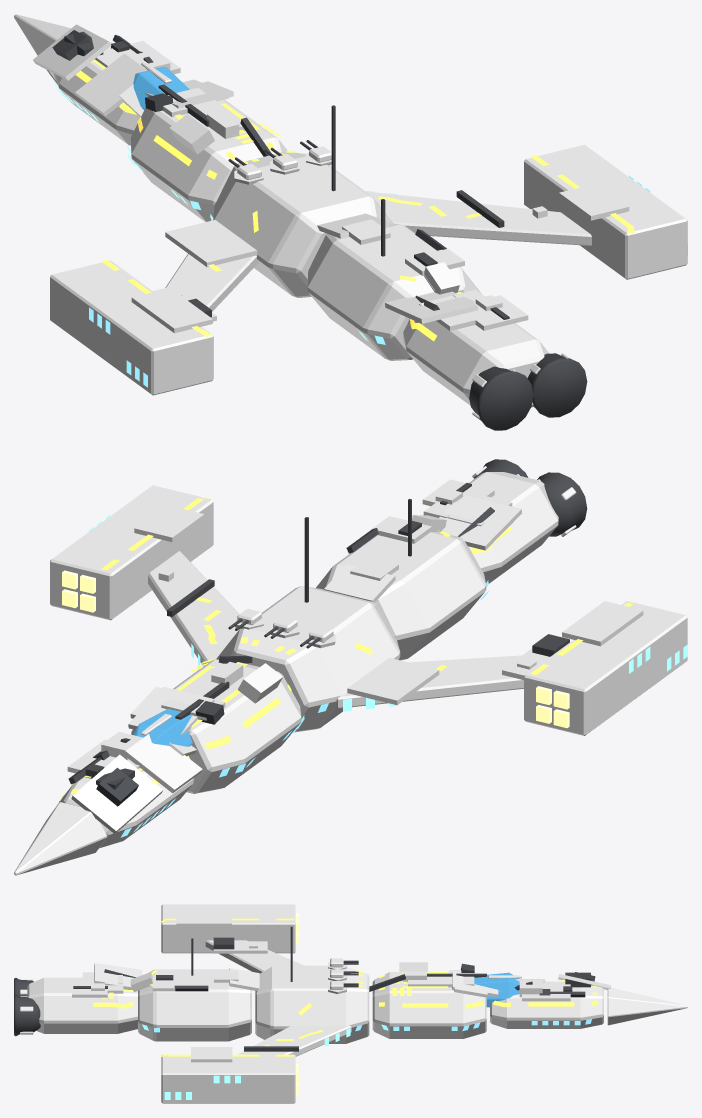
File: gadyuka.glb
The picture shows the model from 3 angles, top to bottom: view 1: azimuth 30°, elevation 25°; view 2: azimuth 150°, elevation 25°; view 3: azimuth 270°, elevation 25°; orthographic projection. The views are drawn at different scales.
Parts seen in each view (by area): view 1: Накладные_плиты, Сегмент.002, Пусковой_контейнер.001, Пусковой_контейнер, Сегмент.003, Сегмент.001, Сегмент.004, Крыло, Механика, Кожух_дюзы.001, Кожух_дюзы, Разметка (+5 smaller); view 2: Накладные_плиты, Сегмент.002, Пусковой_контейнер.001, Пусковой_контейнер, Сегмент.003, Сегмент.001, Механика, Сегмент.004, Крыло, Крыло.001, Голова, Разметка (+4 smaller); view 3: Накладные_плиты, Сегмент.002, Сегмент.003, Пусковой_контейнер, Сегмент.001, Пусковой_контейнер.001, Сегмент.004, Сегмент, Механика, Разметка, Голова, Крыло (+4 smaller).
Part boxes in pixels (x1,y1,x2,y2): Накладные_плиты: (33, 24, 629, 333); Сегмент.002: (213, 151, 392, 297); Пусковой_контейнер.001: (50, 260, 213, 395); Пусковой_контейнер: (524, 144, 687, 279); Сегмент.003: (307, 223, 481, 360); Сегмент.001: (130, 99, 287, 221); Сегмент.004: (403, 319, 549, 407); Крыло: (365, 191, 591, 245); Механика: (52, 30, 509, 319); Кожух_дюзы.001: (469, 366, 533, 430); Кожух_дюзы: (527, 353, 587, 417); Разметка: (76, 38, 634, 341); Накладные_плиты: (67, 479, 643, 833); Сегмент.002: (216, 586, 400, 732); Пусковой_контейнер.001: (524, 601, 687, 735); Пусковой_контейнер: (50, 485, 213, 620); Сегмент.003: (316, 532, 486, 660); Сегмент.001: (131, 659, 301, 793); Механика: (68, 483, 569, 806); Сегмент.004: (468, 472, 558, 583); Крыло: (148, 551, 239, 666); Крыло.001: (336, 655, 523, 708); Голова: (14, 802, 107, 875); Разметка: (60, 497, 634, 800); Накладные_плиты: (72, 911, 610, 1062); Сегмент.002: (255, 966, 369, 1043); Сегмент.003: (138, 969, 251, 1041); Пусковой_контейнер: (161, 1054, 295, 1103); Сегмент.001: (372, 972, 486, 1038); Пусковой_контейнер.001: (161, 904, 295, 953); Сегмент.004: (27, 977, 137, 1033); Сегмент: (490, 985, 603, 1028); Механика: (73, 926, 595, 1051); Разметка: (93, 918, 598, 1056); Голова: (607, 987, 687, 1025); Крыло: (238, 1025, 351, 1056).
Size of the model in its own units: 1.21 by 0.3603 by 2.01.
